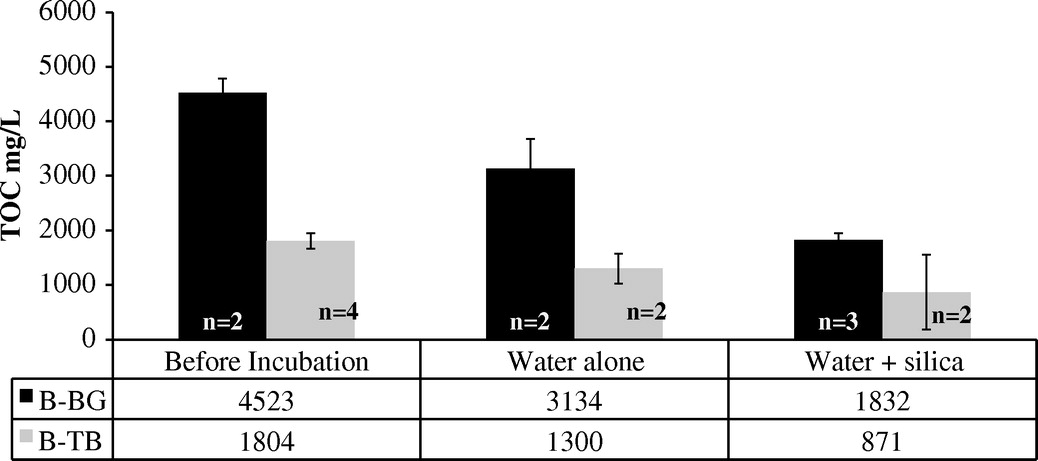fracking table: (6, 338, 1038, 459)
